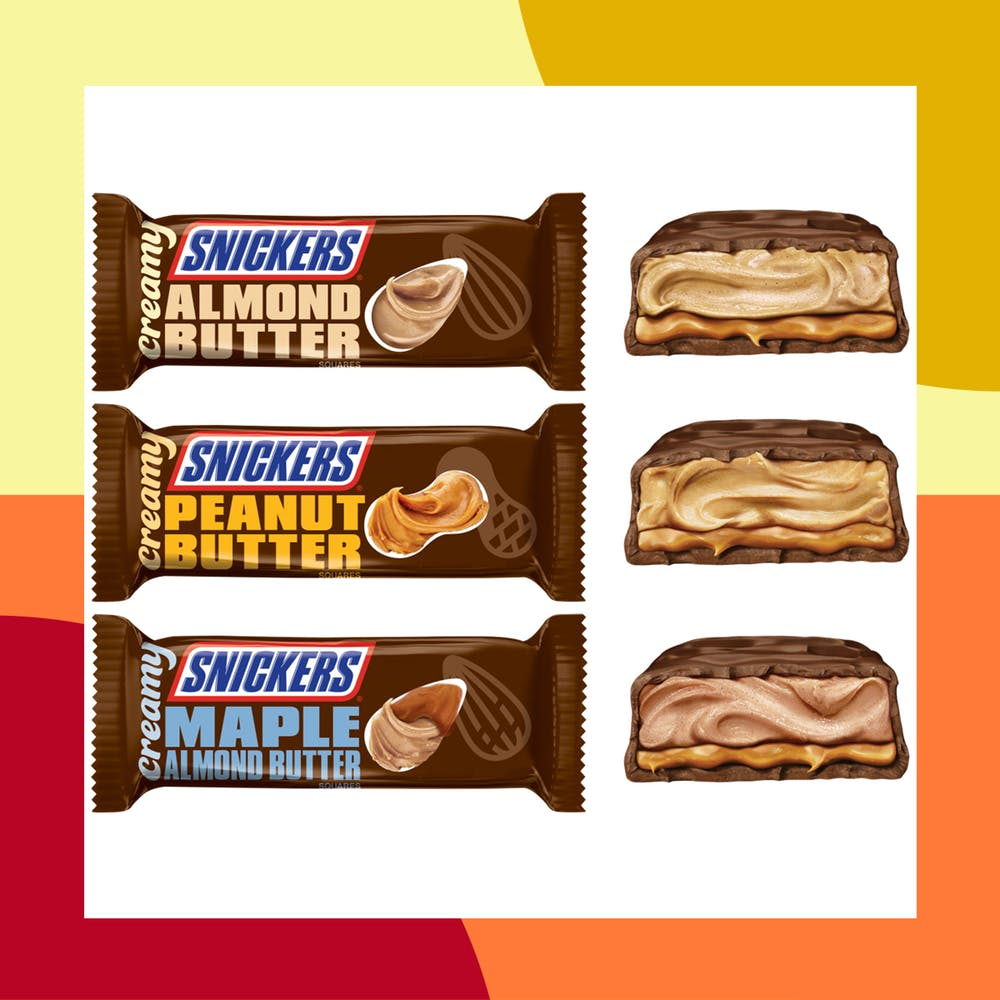snickers: (174, 434, 361, 483), (178, 434, 361, 483), (173, 648, 363, 692), (176, 226, 363, 269), (178, 226, 363, 269)
